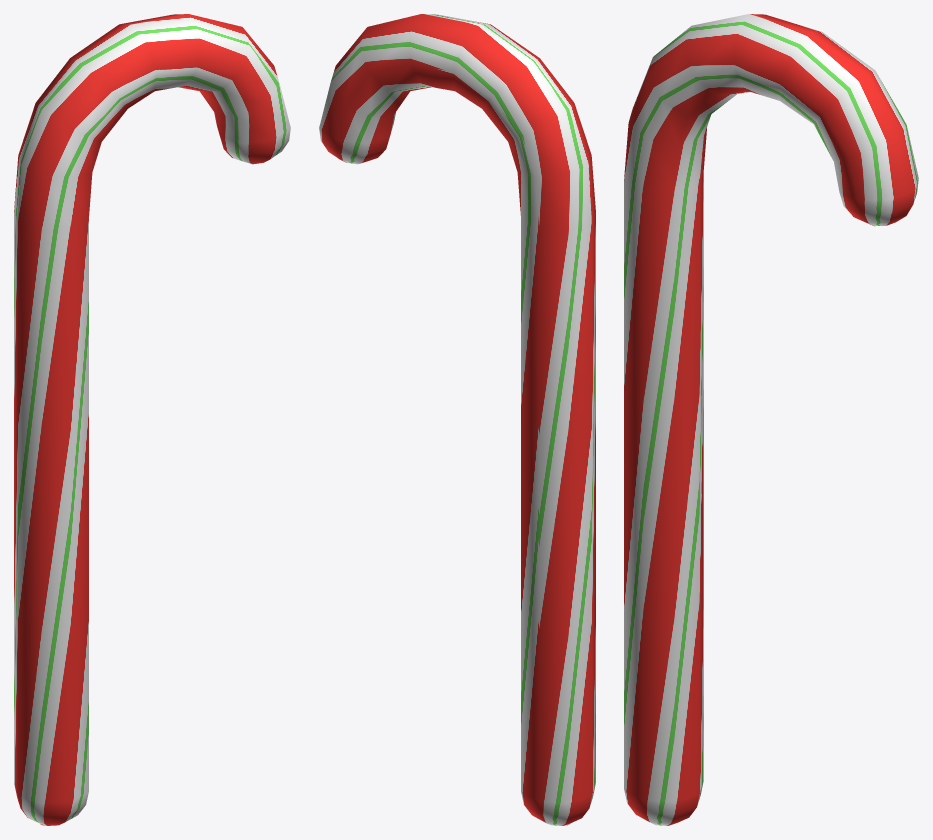
Rendered from Candy_Cane.FBX.
3 renders of one model, left to right at view 1: azimuth 30°, elevation 25°; view 2: azimuth 150°, elevation 25°; view 3: azimuth 330°, elevation 25°, orthographic. The views are drawn at different scales.
Visible parts, largest first — view 1: Candy_Cane; view 2: Candy_Cane; view 3: Candy_Cane.
Part boxes in pixels (left/top/right/bottom): Candy_Cane: left=14, top=14, right=290, bottom=825; Candy_Cane: left=319, top=14, right=595, bottom=825; Candy_Cane: left=624, top=14, right=918, bottom=825.
Size of the model in its own units: 162 by 447 by 40.33.
